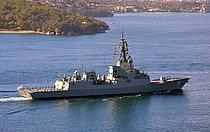MIL_Ship: (18, 36, 190, 100)
